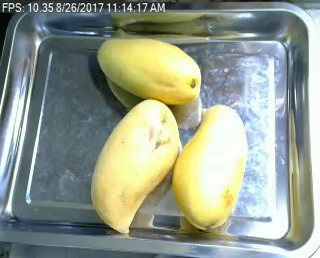Mango: (91, 99, 180, 233), (172, 104, 246, 228), (97, 37, 202, 104)
